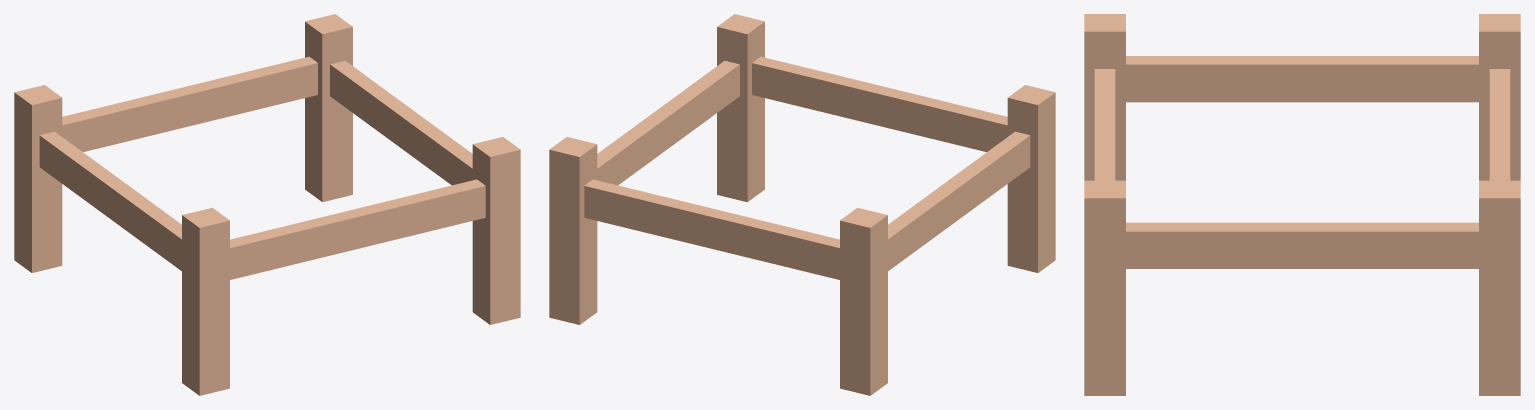
Rendered from woodStructure.glb.
3 renders of one model, left to right at view 1: azimuth 30°, elevation 25°; view 2: azimuth 150°, elevation 25°; view 3: azimuth 270°, elevation 25°, orthographic. The views are drawn at different scales.
Visible parts, largest first — view 1: woodStructure; view 2: woodStructure; view 3: woodStructure.
Part boxes in pixels (x1,y1,x2,y2): woodStructure: (14, 14, 520, 395); woodStructure: (549, 14, 1055, 395); woodStructure: (1084, 14, 1520, 395).
Bounding box in the file's own units: 1 × 0.5 × 1.
